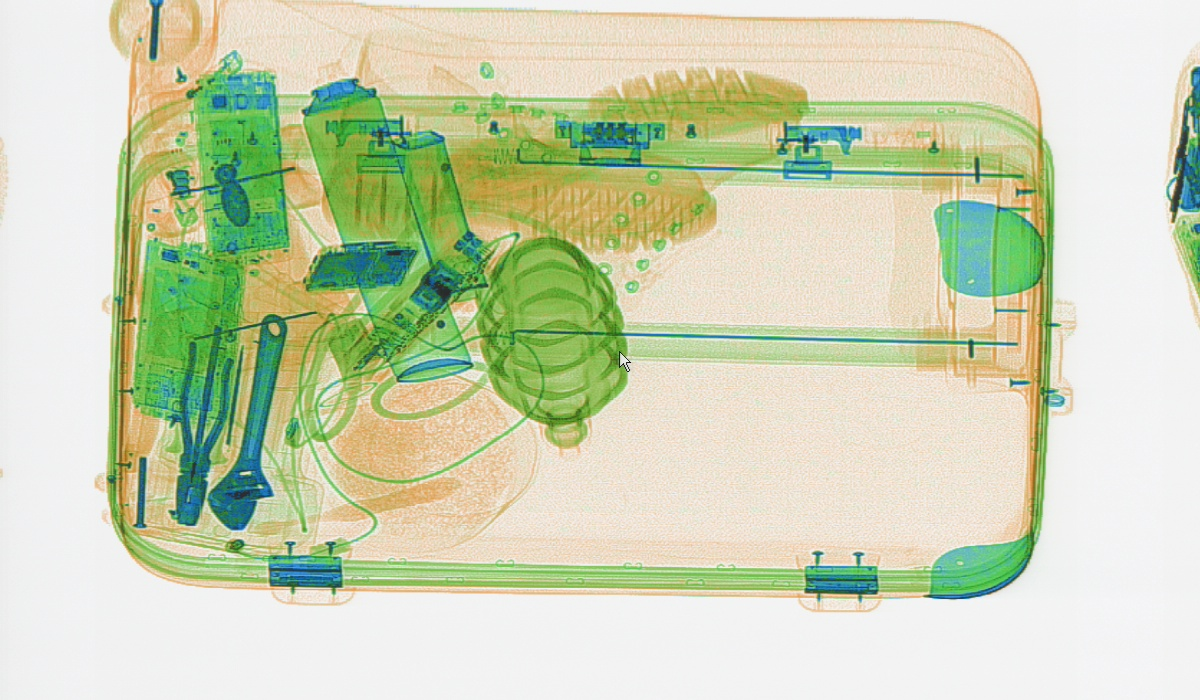lighter: (143, 47, 243, 131)
pressure: (299, 73, 475, 383)
zippooil: (386, 126, 487, 302)
